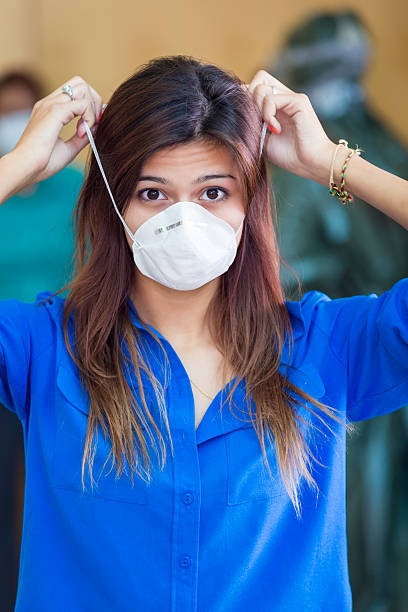mask: (120, 205, 244, 292)
